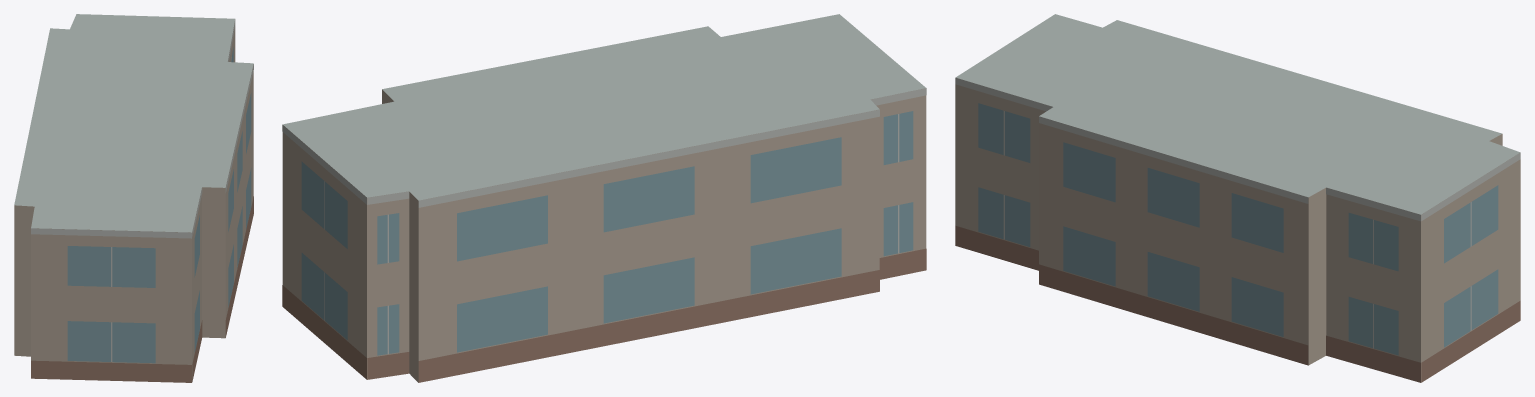
File: survey-upis-32922481.glb
3 renders of one model, left to right at view 1: azimuth 30°, elevation 25°; view 2: azimuth 150°, elevation 25°; view 3: azimuth 270°, elevation 25°, orthographic. The views are drawn at different scales.
Visible parts, largest first — view 1: survey-upis-32922481.tmp; view 2: survey-upis-32922481.tmp; view 3: survey-upis-32922481.tmp.
Part boxes in pixels (x1,y1,x2,y2): survey-upis-32922481.tmp: (14, 14, 253, 382); survey-upis-32922481.tmp: (282, 14, 926, 382); survey-upis-32922481.tmp: (955, 14, 1520, 382).
Bounding box in the file's own units: 15.63 × 6.1 × 18.59.
